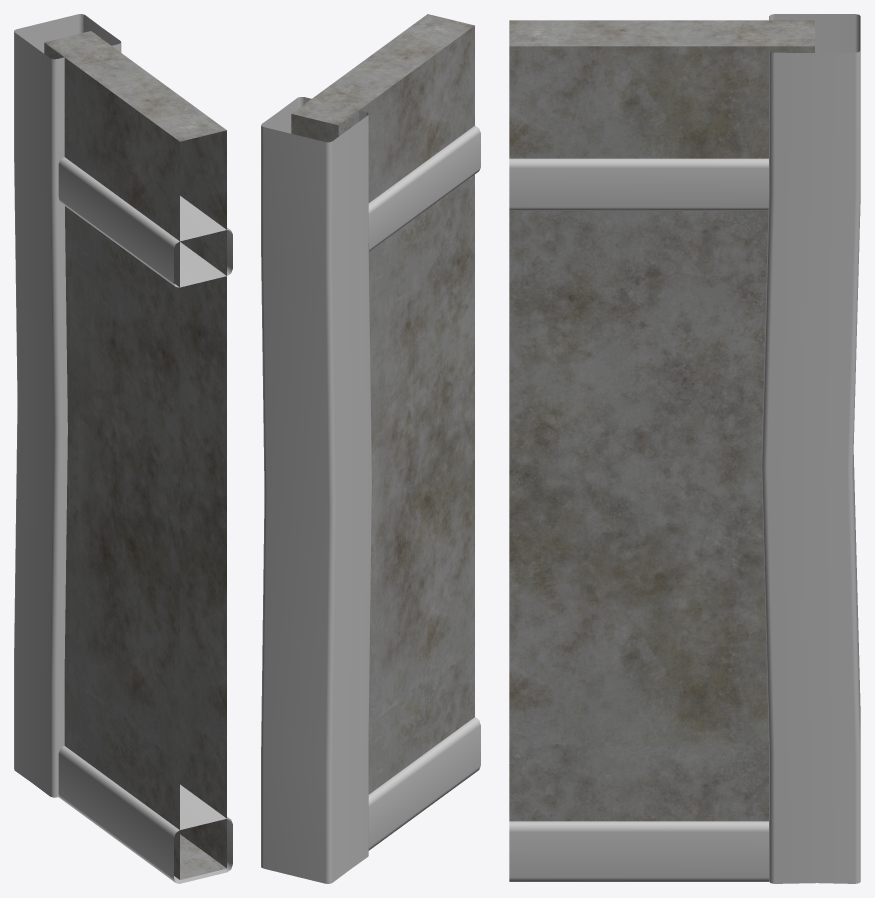
The model's file is SM_WallSmall01.fbx.
The picture shows the model from 3 angles, left to right: view 1: azimuth 30°, elevation 25°; view 2: azimuth 150°, elevation 25°; view 3: azimuth 270°, elevation 25°; orthographic projection. The views are drawn at different scales.
Parts seen in each view (by area): view 1: SM_WallSmall01_LOD0; view 2: SM_WallSmall01_LOD0; view 3: SM_WallSmall01_LOD0.
Boxes of the visible parts, x1,y1,x2,y2 form: SM_WallSmall01_LOD0: (14,14,232,883); SM_WallSmall01_LOD0: (261,14,480,883); SM_WallSmall01_LOD0: (509,14,860,883).
Size of the model in its own units: 30 by 115 by 302.
